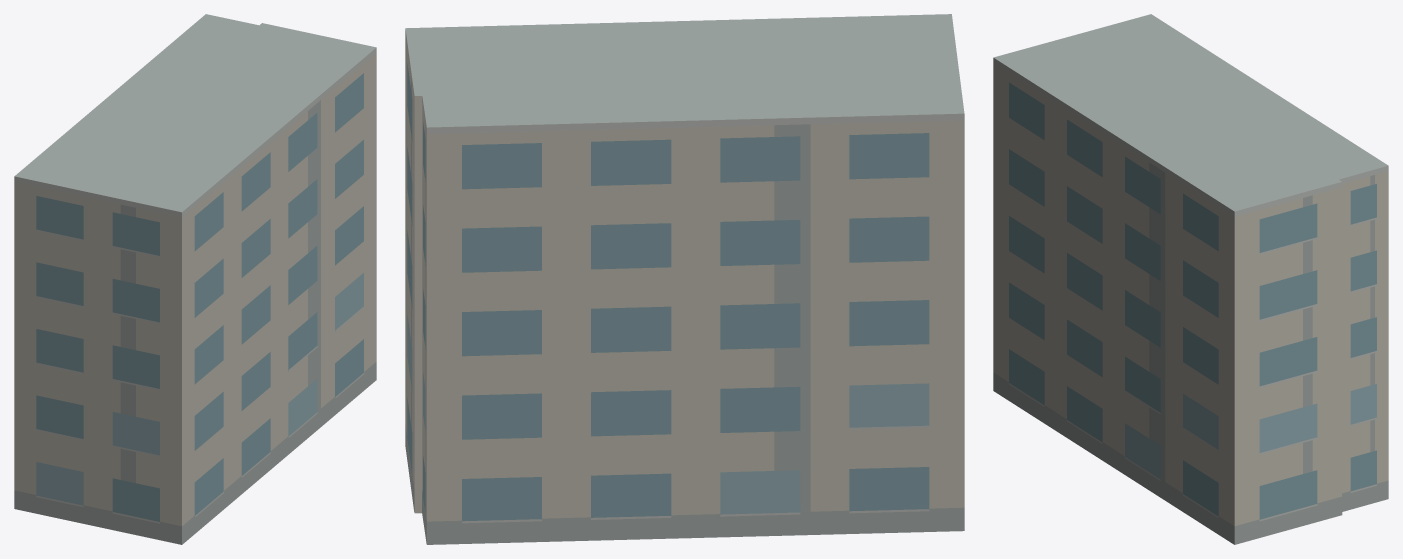
The model's file is survey-upis-32703288.glb.
3 views of the same model, side by side, from view 1: azimuth 30°, elevation 25°; view 2: azimuth 150°, elevation 25°; view 3: azimuth 270°, elevation 25° (orthographic). The views are drawn at different scales.
Visible parts, largest first — view 1: survey-upis-32703288.tmp; view 2: survey-upis-32703288.tmp; view 3: survey-upis-32703288.tmp.
Boxes of the visible parts, <box> form: survey-upis-32703288.tmp: <box>14,14,376,544</box>; survey-upis-32703288.tmp: <box>405,14,964,544</box>; survey-upis-32703288.tmp: <box>993,14,1388,544</box>.
Bounding box in the file's own units: 19.39 × 15.25 × 16.4.
